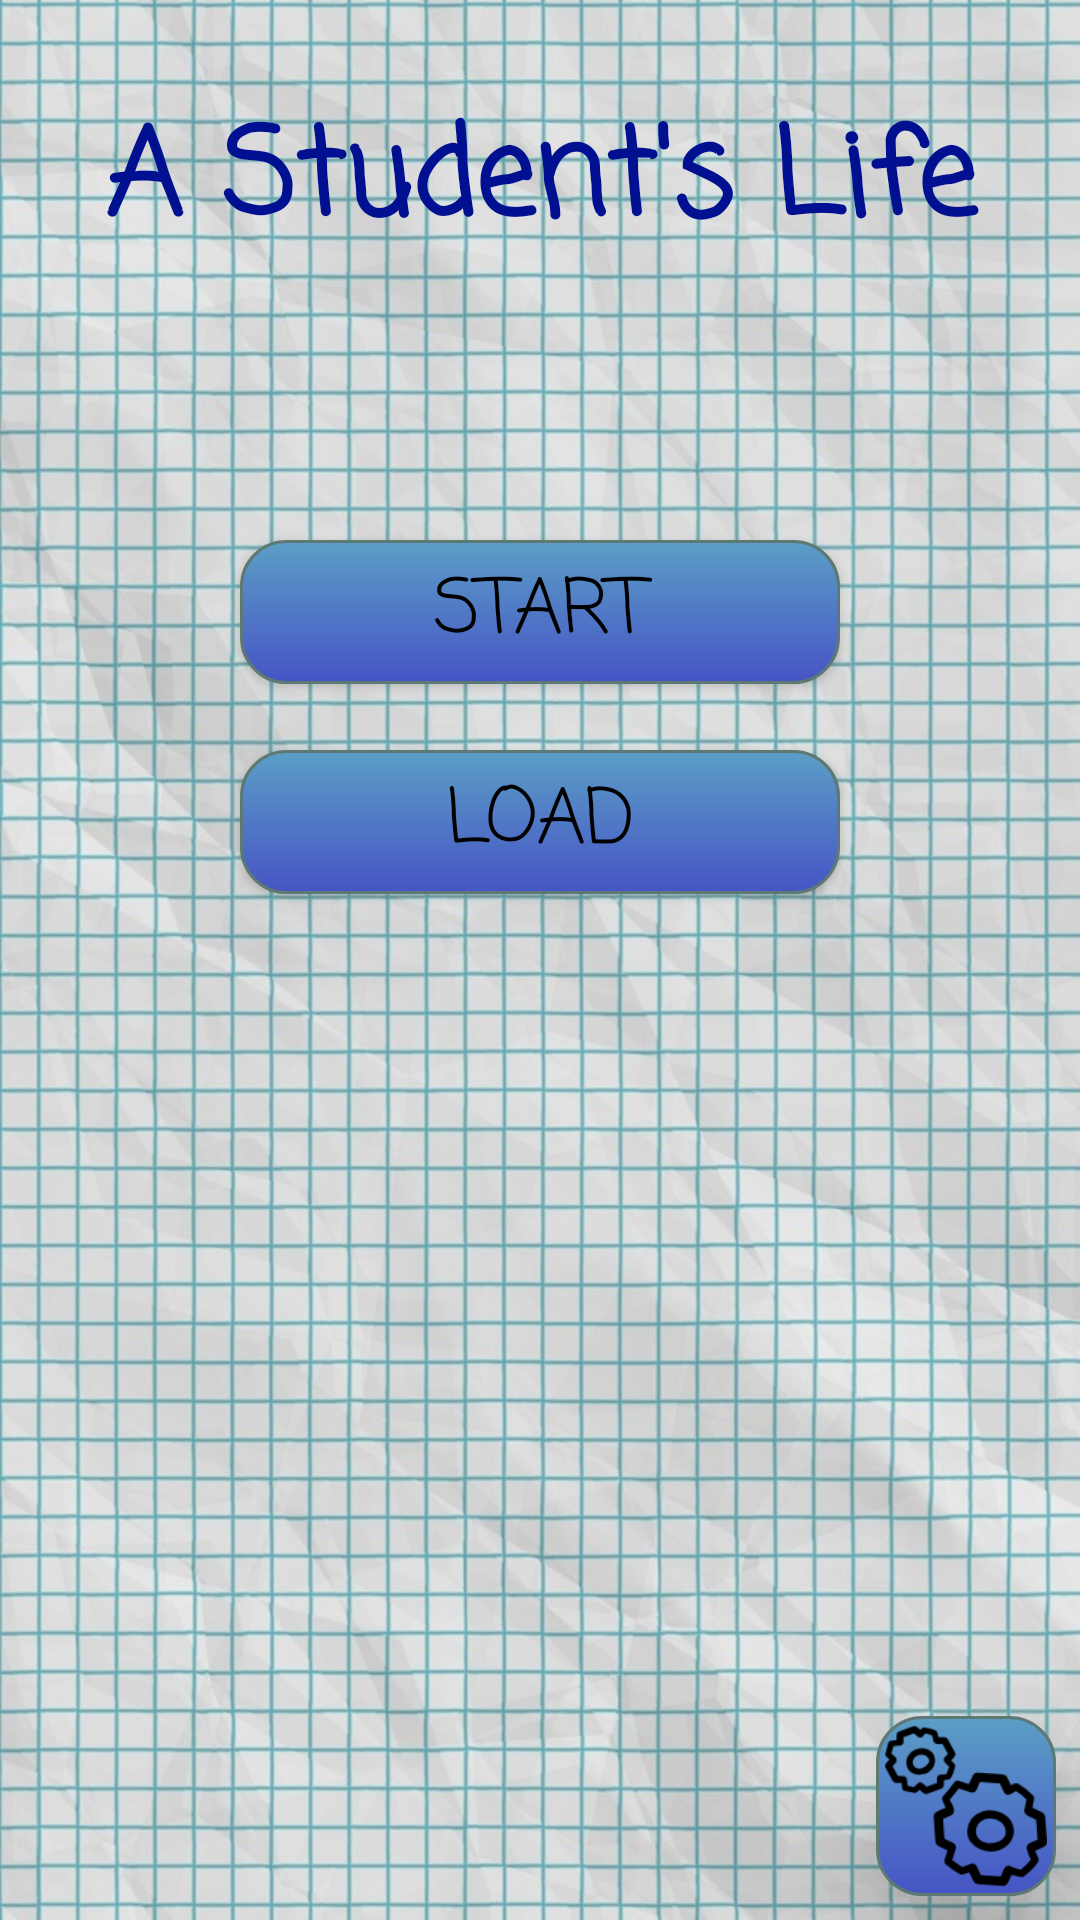

Named icons in this screenshot (1080px x 1920px) and their centers, (x=x, y=y):
settings: (x=966, y=1806)
